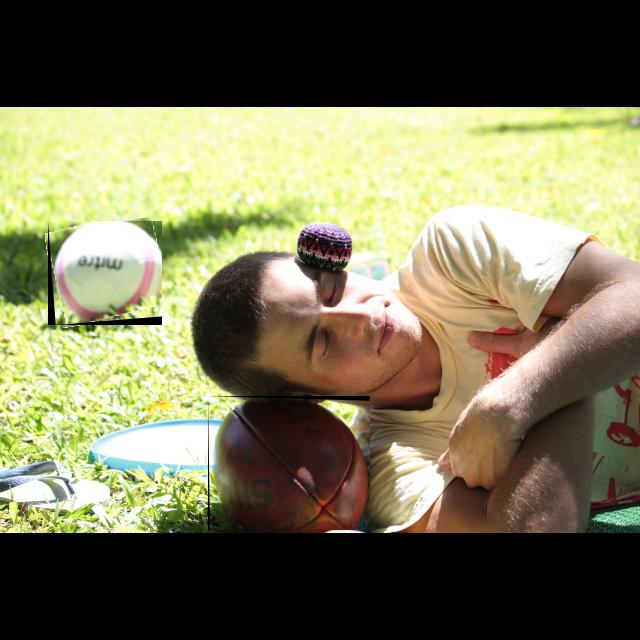Football: (208, 396, 370, 530), (48, 221, 162, 325)
